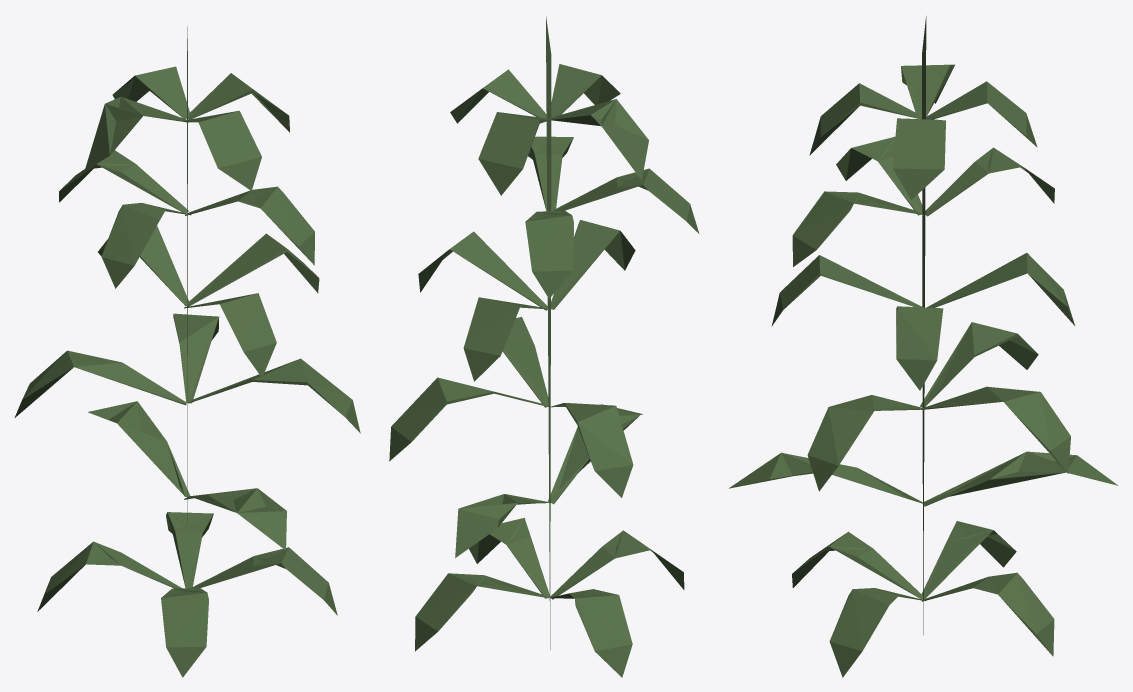
The model's file is Corn_1.lod1.glb.
3 renders of one model, left to right at view 1: azimuth 30°, elevation 25°; view 2: azimuth 150°, elevation 25°; view 3: azimuth 270°, elevation 25°, orthographic.
Parts seen in each view (by area): view 1: Corn_1; view 2: Corn_1; view 3: Corn_1.
Part boxes in pixels (left/top/right/bottom): Corn_1: left=14, top=26, right=360, bottom=677; Corn_1: left=389, top=16, right=699, bottom=677; Corn_1: left=729, top=16, right=1118, bottom=677.
Bounding box in the file's own units: 0.8276 × 1.98 × 1.09.
